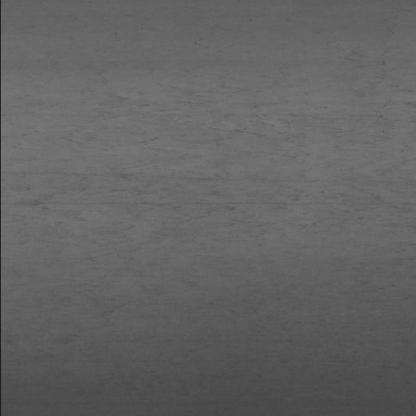silk_spot: (16, 55, 378, 293)
